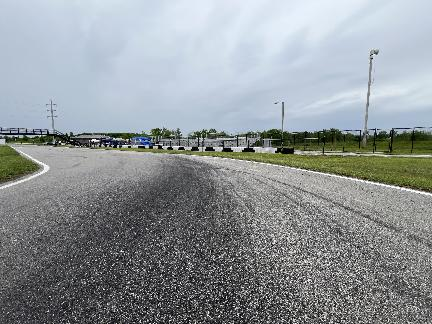Grass: (98, 148, 431, 191), (0, 146, 39, 182)
Lane: (0, 146, 431, 323)
